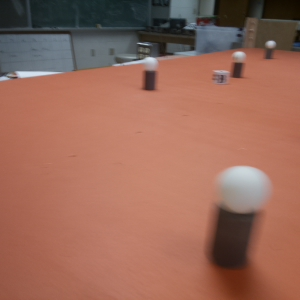blockB: (210, 67, 229, 86)
corner: (242, 16, 259, 49)
obstacle: (207, 166, 272, 270), (141, 57, 160, 91), (232, 50, 246, 80), (263, 40, 276, 60)
